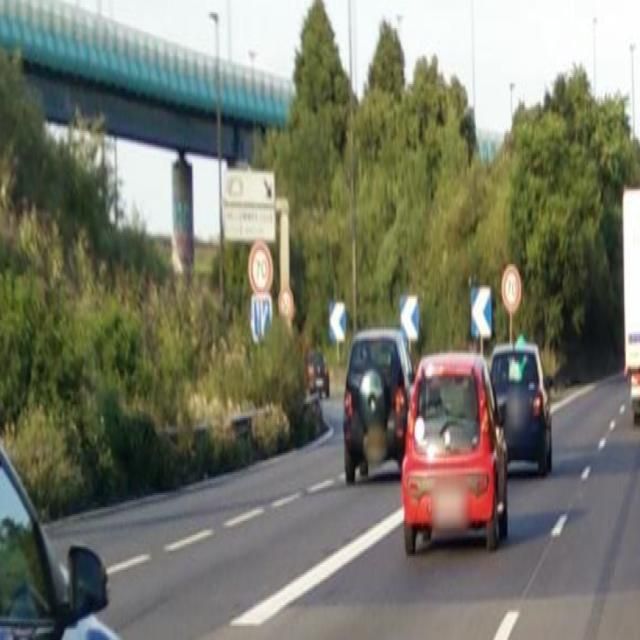speed_70: (250, 241, 272, 291), (502, 266, 522, 310)
